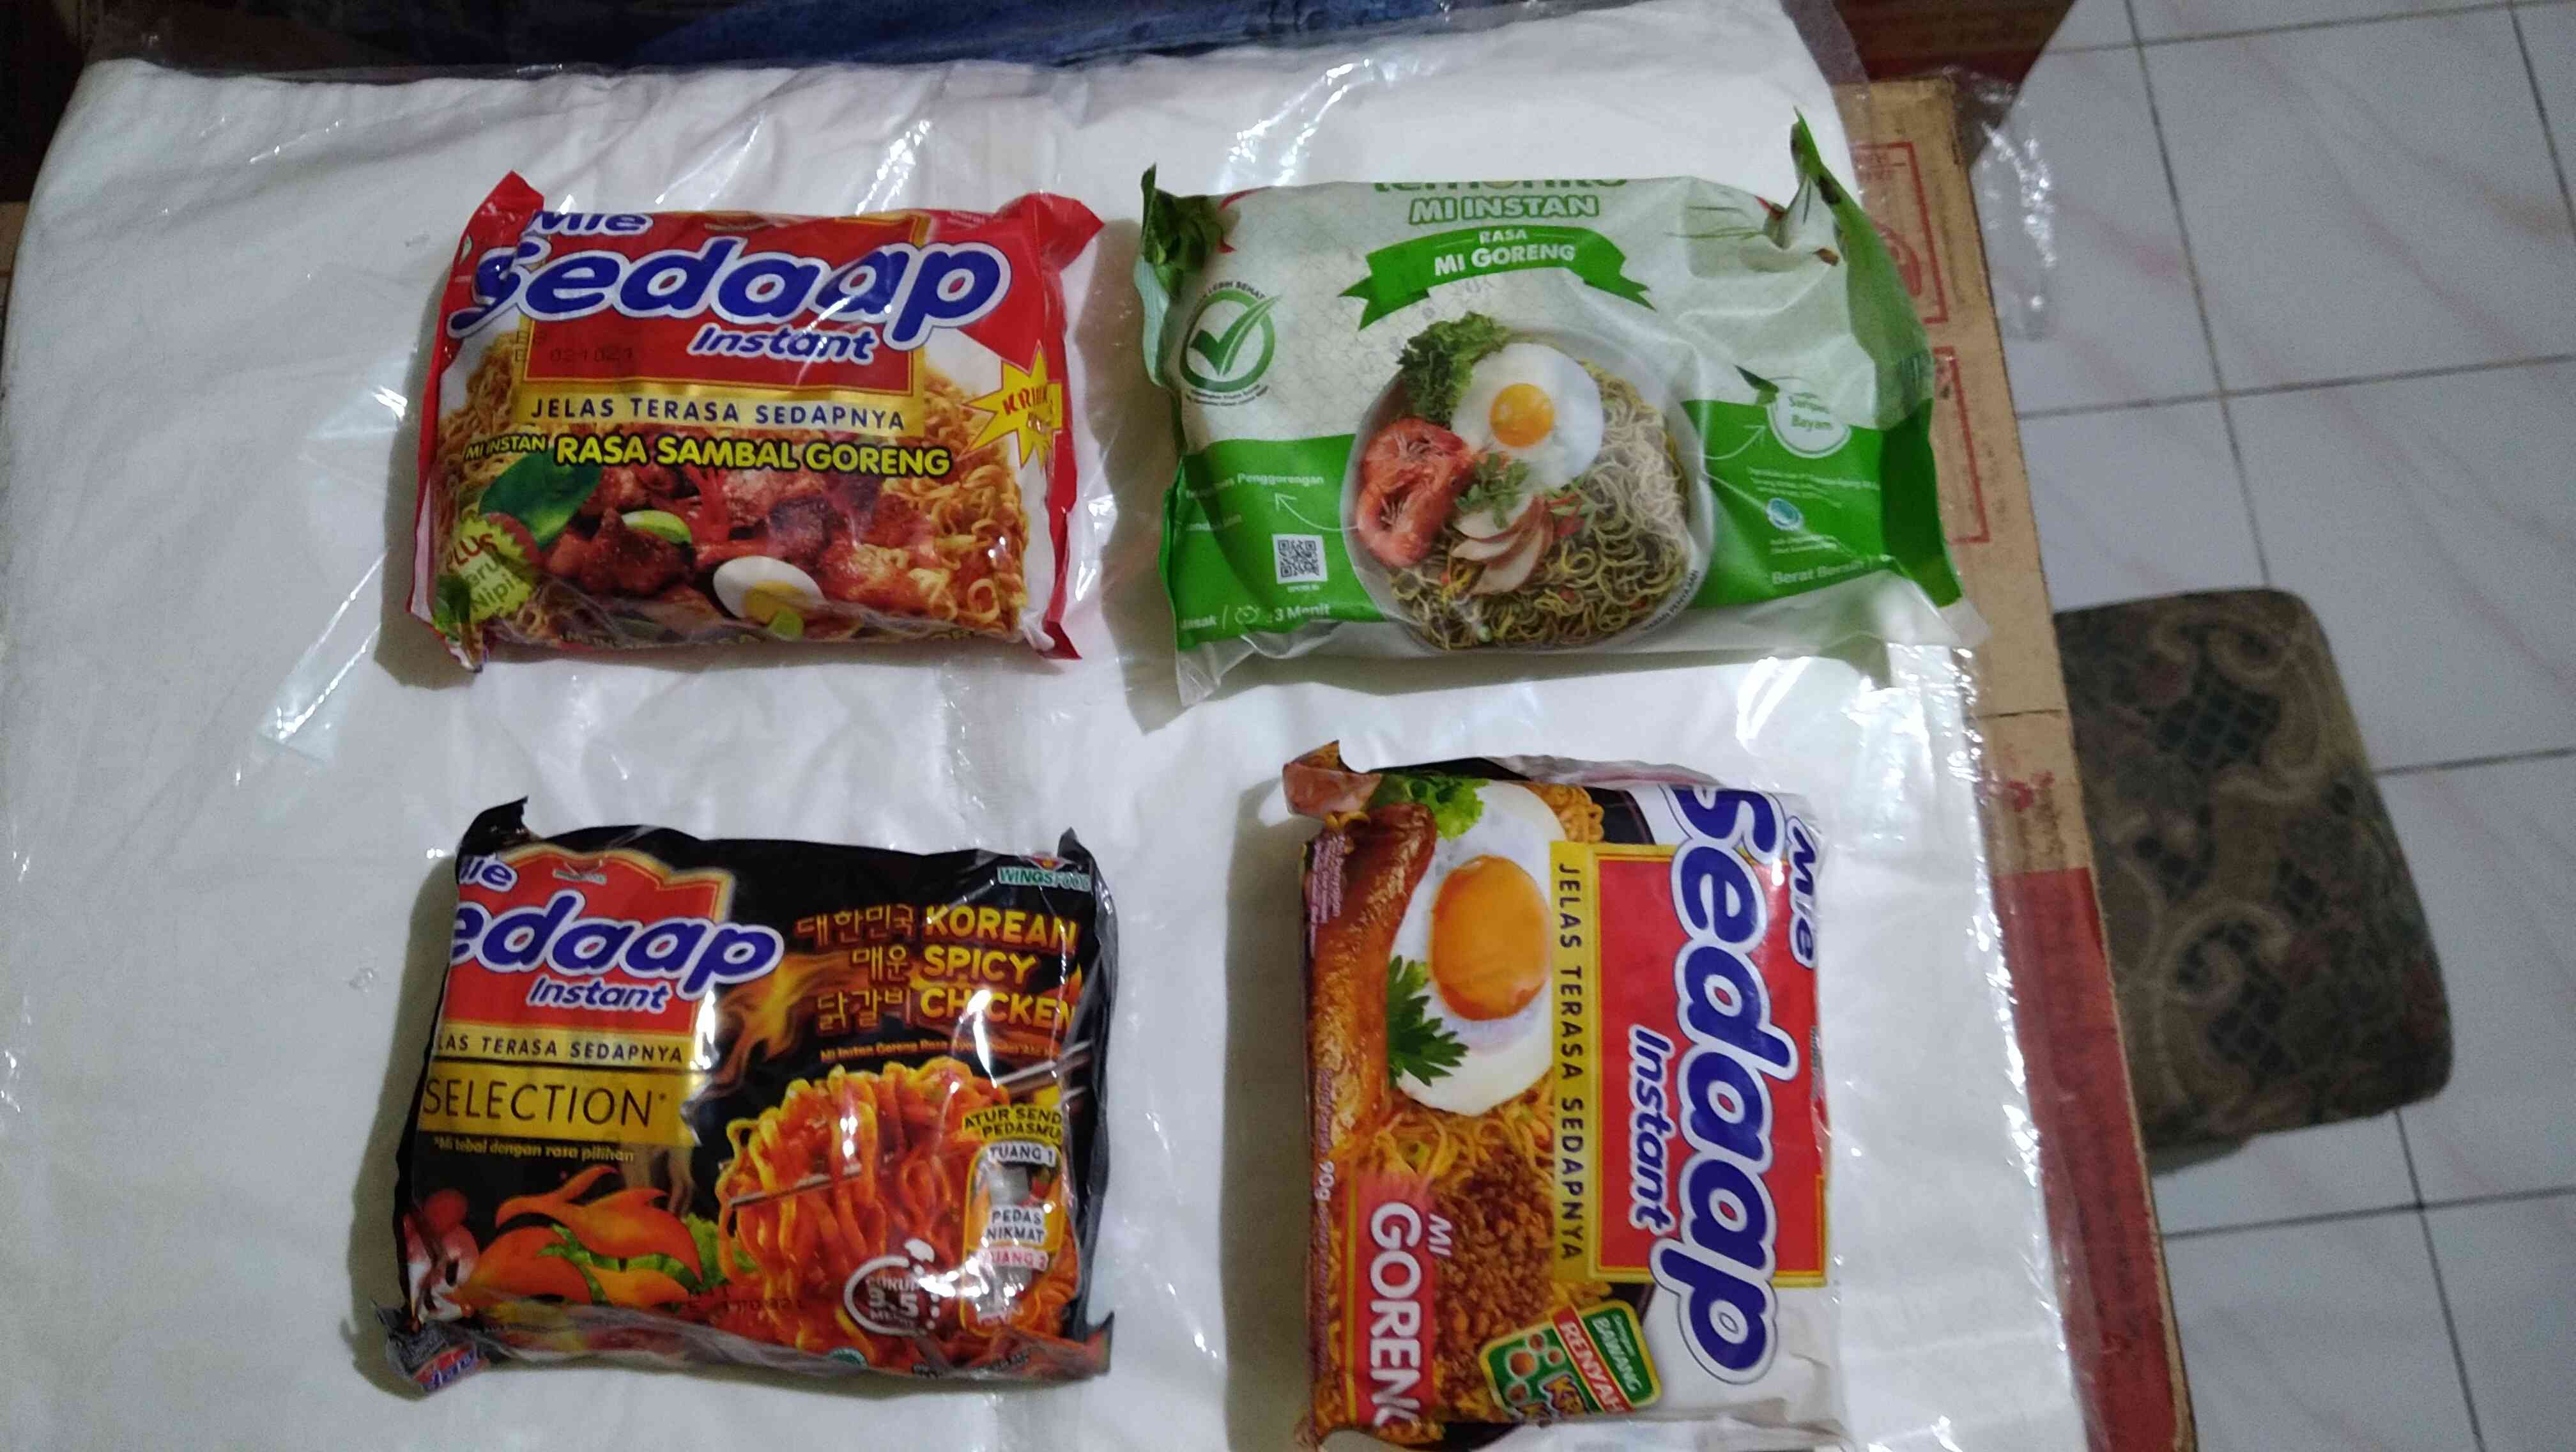lemonilo: (1148, 170, 1937, 634)
sedaap goreng: (1277, 742, 1849, 1443)
sedaap sambal goreng: (379, 166, 1102, 694)
sedaap spicy: (384, 811, 1148, 1376)
